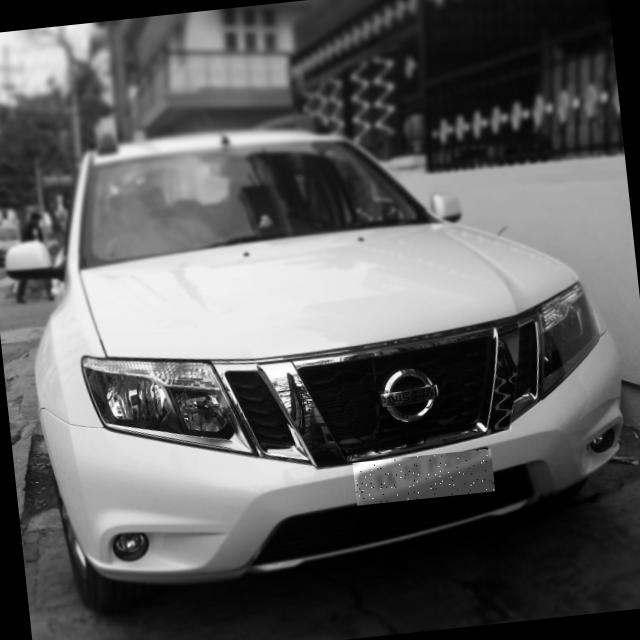Plate: (353, 449, 496, 506)
